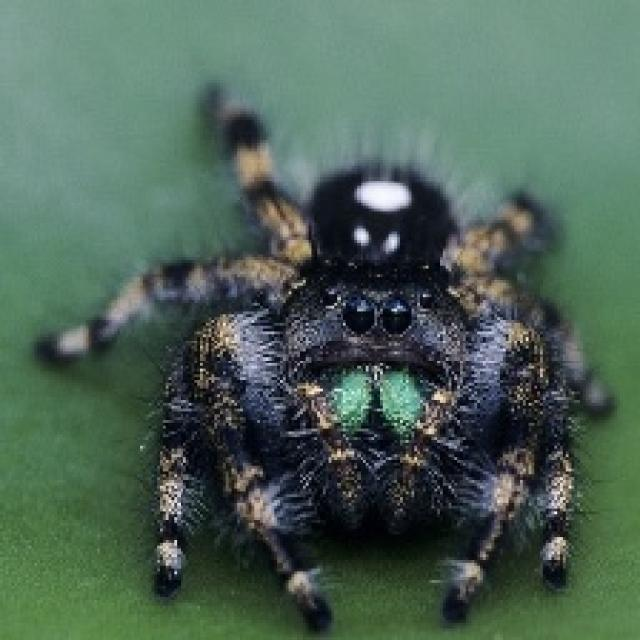Non venomous spider: (76, 58, 595, 620)
